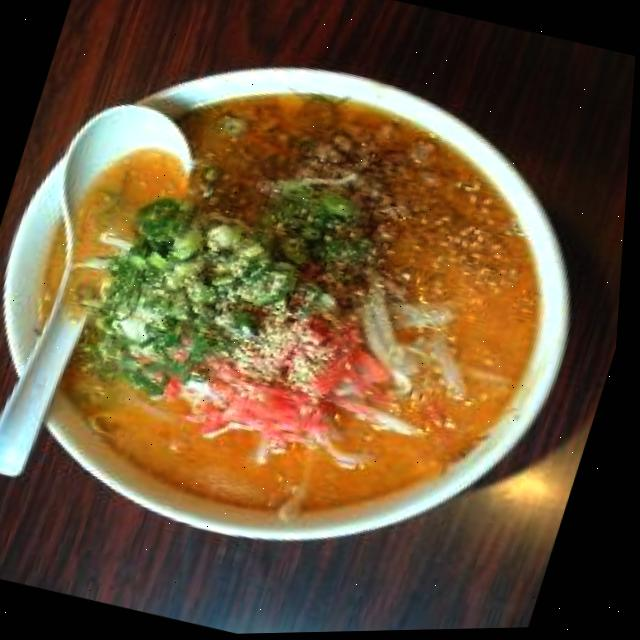面条主食: (42, 7, 639, 623)
